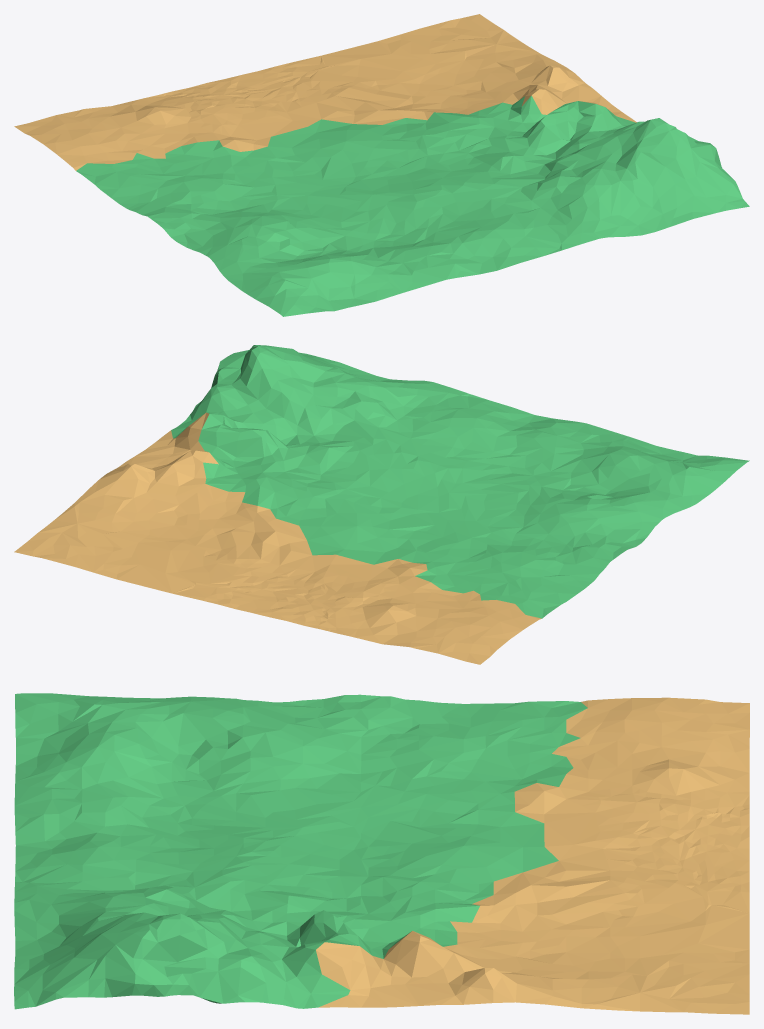
Rendered from GEO_ENV_Terrain.fbx.
3 views of the same model, one above another, from view 1: azimuth 30°, elevation 25°; view 2: azimuth 150°, elevation 25°; view 3: azimuth 270°, elevation 25° (orthographic). The views are drawn at different scales.
Visible parts, largest first — view 1: GEO_ENV_Terrain; view 2: GEO_ENV_Terrain; view 3: GEO_ENV_Terrain.
Boxes of the visible parts, x1,y1,x2,y2 form: GEO_ENV_Terrain: (14, 14, 749, 316); GEO_ENV_Terrain: (14, 345, 749, 664); GEO_ENV_Terrain: (14, 693, 749, 1014).
Size of the model in its own units: 206 by 24.17 by 201.
